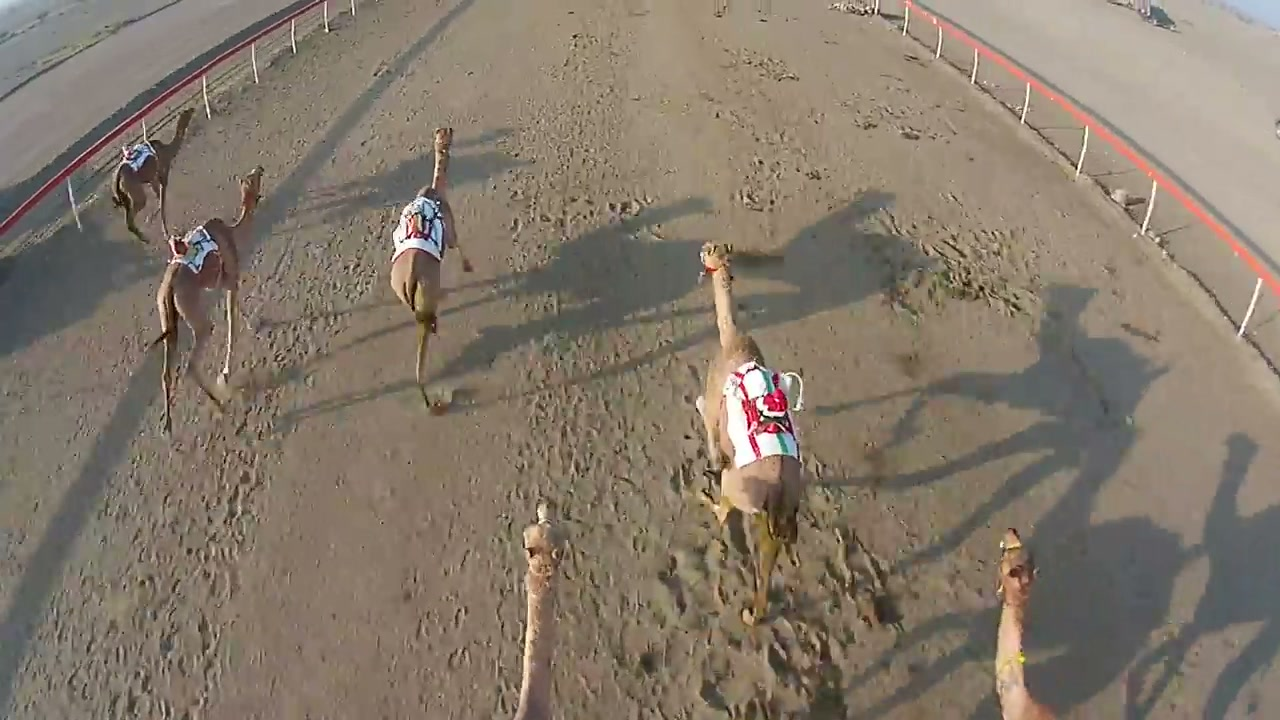animal_foot_print: (62, 353, 318, 713), (388, 488, 524, 695)
